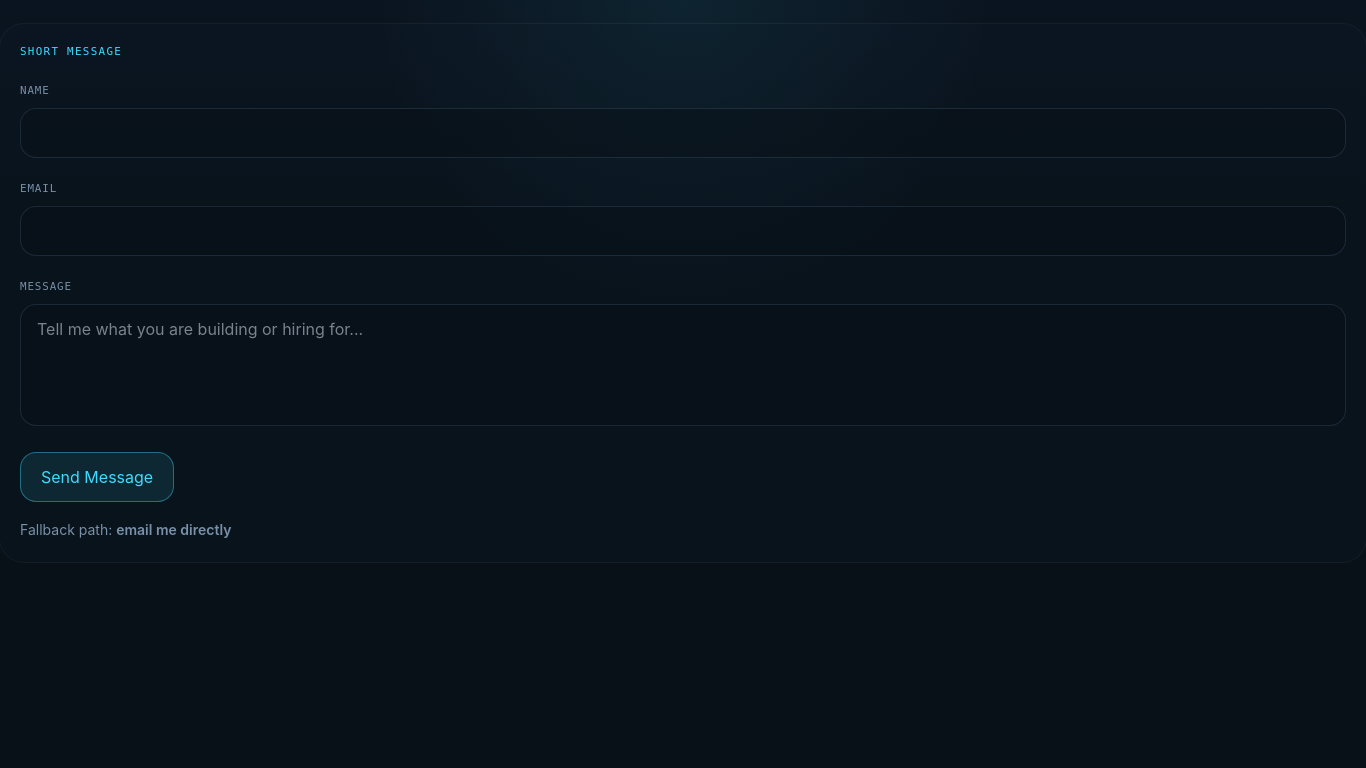
ContactForm › shows success feedback after successful submission
Type "Thapelo Magqazana" into the field labelled "Name" at [683, 133], box [20,108,1346,158]
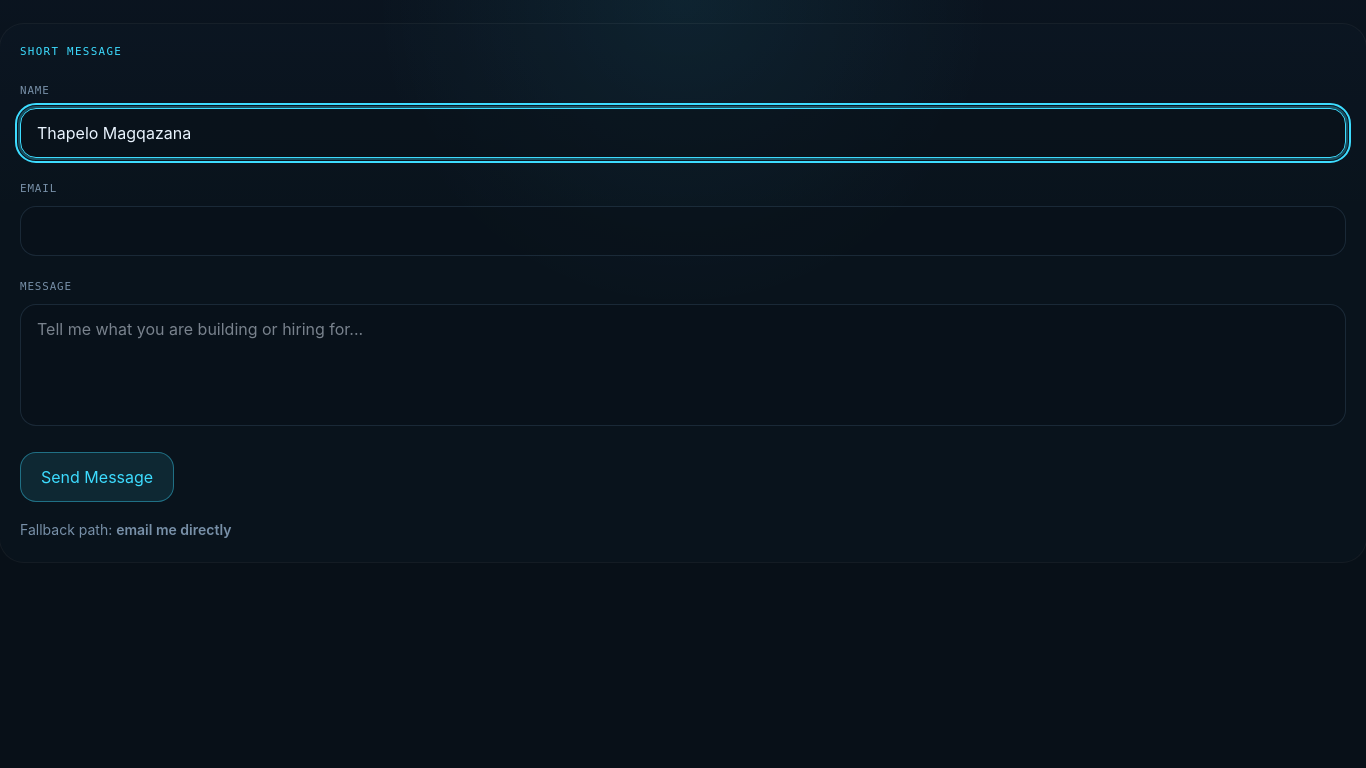
Type "thapelo@example.com" into the field labelled "Email" at [683, 231], box [20,206,1346,256]
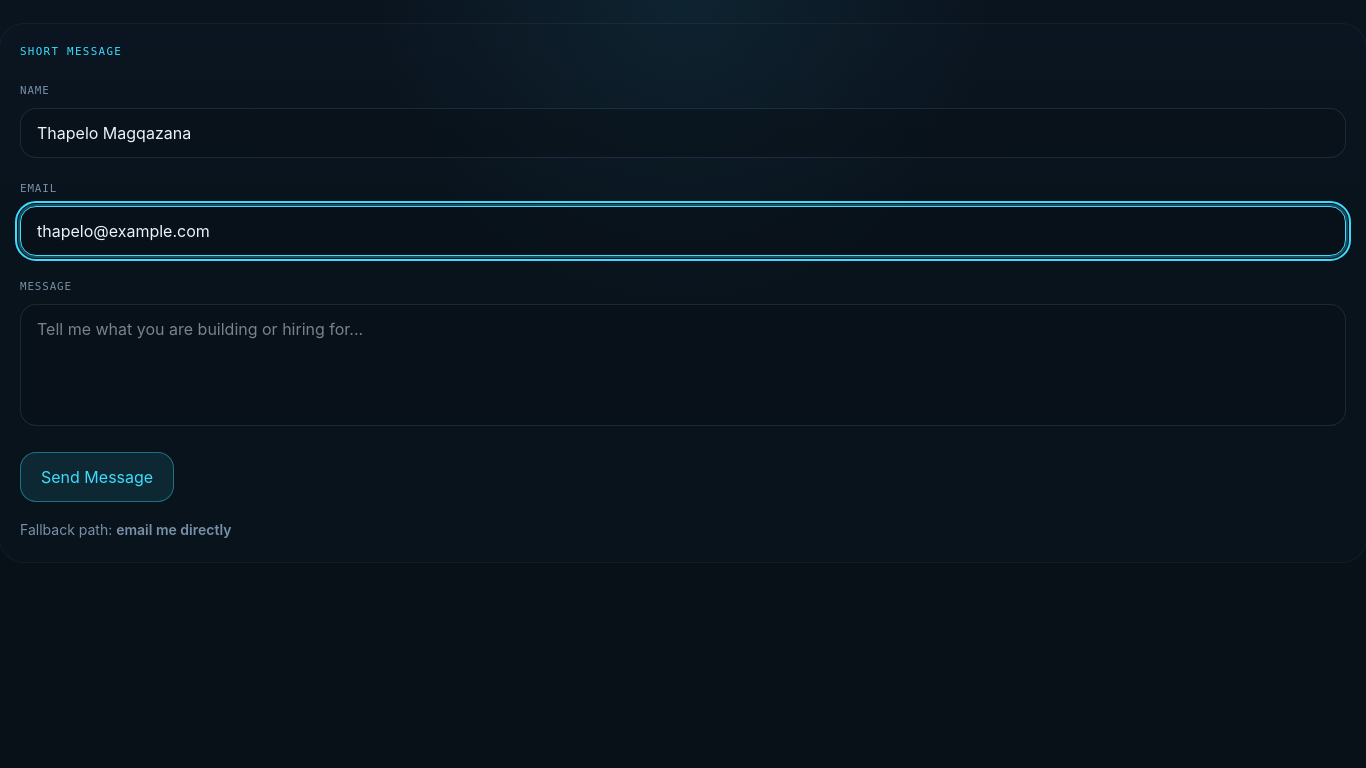
Type "Hello, I would like to discuss a software opportunity." into the text box labelled "Message" at [683, 365], box [20,304,1346,426]
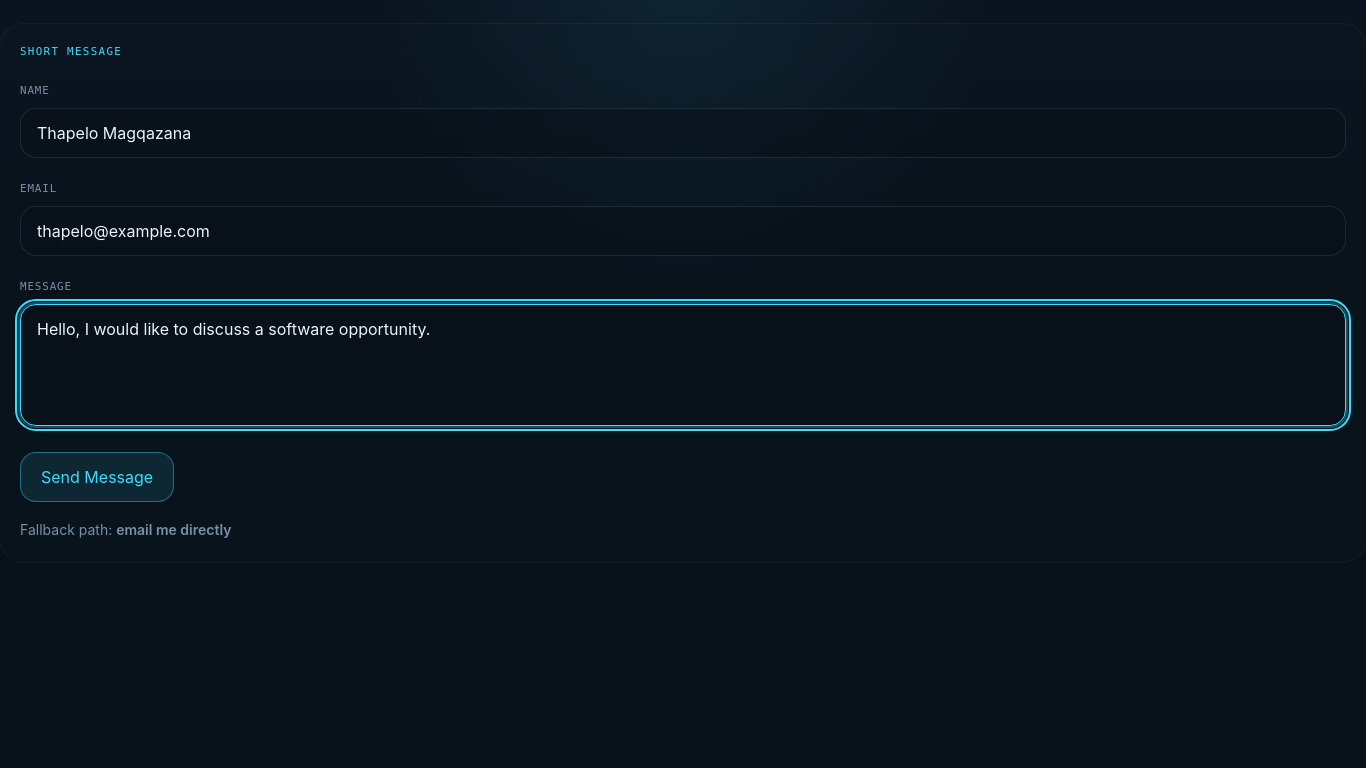
Click the button "Send Message" at [97, 477], box [20,452,174,502]
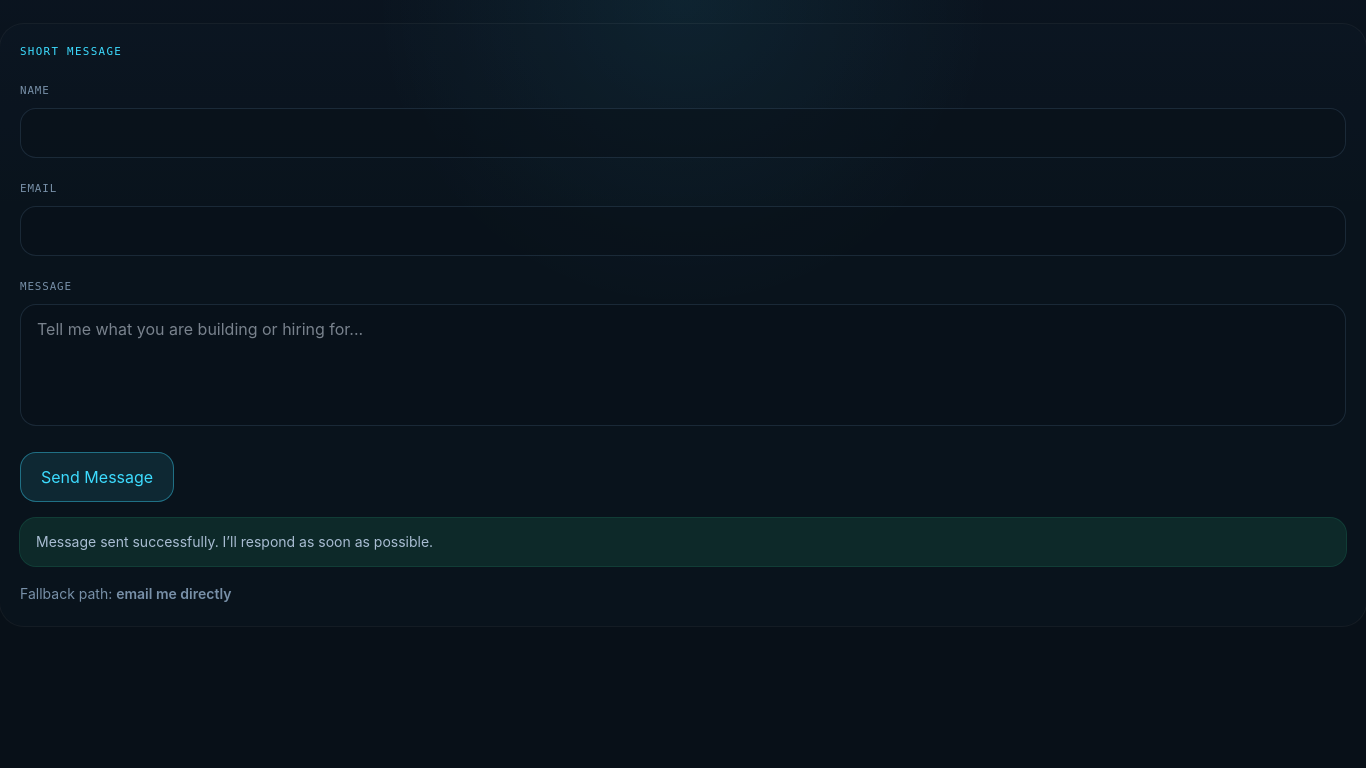
Check: the message shows "Message sent successfully", box [36,533,433,550]
